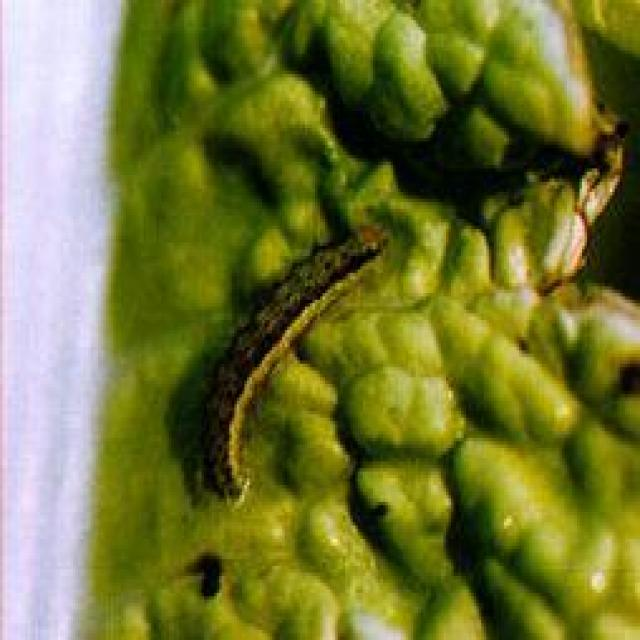armyworm: (201, 217, 395, 512)
